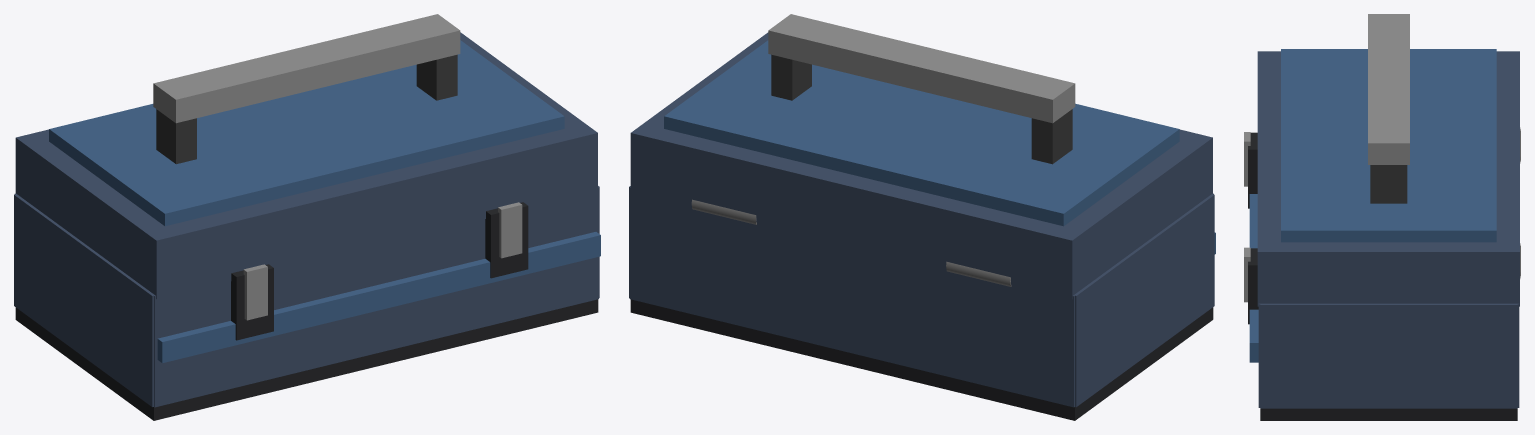
File: CMU3DUtilityRMCToolboxMechanicalCloud.glb
3 renders of one model, left to right at view 1: azimuth 30°, elevation 25°; view 2: azimuth 150°, elevation 25°; view 3: azimuth 270°, elevation 25°, orthographic. The views are drawn at different scales.
Visible parts, largest first — view 1: independent closed lid, raised lid field, structural end wall -1, structural side wall -1, open grip silver crossbar, source colored front band, structural bottom pan, front latch socket 0.17, front latch socket -0.17, carry handle leg -0.174, carry handle leg 0.174, front metal latch plate -0.17 (+1 smaller); view 2: structural end wall 1, independent closed lid, raised lid field, structural side wall -1, open grip silver crossbar, structural bottom pan, carry handle leg -0.174, carry handle leg 0.174, back hinge 0.17, back hinge -0.17; view 3: raised lid field, structural side wall 1, independent closed lid, open grip silver crossbar, structural bottom pan, carry handle leg 0.174, source colored front band, front latch socket 0.17, front latch socket -0.17, structural end wall -1, structural end wall 1, front metal latch plate 0.17.
Boxes of the visible parts, x1,y1,x2,y2 form: independent closed lid: [15, 32, 597, 299]; raised lid field: [49, 40, 564, 226]; structural end wall -1: [141, 187, 598, 407]; structural side wall -1: [14, 194, 154, 406]; open grip silver crossbar: [153, 14, 460, 123]; source colored front band: [157, 232, 600, 363]; structural bottom pan: [15, 299, 598, 420]; front latch socket 0.17: [485, 202, 528, 278]; front latch socket -0.17: [231, 264, 273, 340]; carry handle leg -0.174: [156, 109, 196, 164]; carry handle leg 0.174: [416, 54, 457, 100]; front metal latch plate -0.17: [243, 264, 267, 320]; structural end wall 1: [629, 187, 1087, 407]; independent closed lid: [630, 32, 1212, 299]; raised lid field: [664, 40, 1179, 226]; structural side wall -1: [1074, 194, 1214, 407]; open grip silver crossbar: [768, 14, 1075, 123]; structural bottom pan: [630, 299, 1213, 420]; carry handle leg -0.174: [1031, 109, 1072, 164]; carry handle leg 0.174: [771, 54, 811, 100]; back hinge 0.17: [691, 199, 756, 224]; back hinge -0.17: [946, 261, 1011, 286]; raised lid field: [1281, 49, 1496, 242]; structural side wall 1: [1260, 303, 1517, 408]; independent closed lid: [1257, 51, 1519, 306]; open grip silver crossbar: [1368, 14, 1409, 164]; structural bottom pan: [1260, 408, 1517, 420]; carry handle leg 0.174: [1370, 165, 1407, 203]; source colored front band: [1249, 194, 1258, 362]; front latch socket 0.17: [1248, 248, 1258, 324]; front latch socket -0.17: [1248, 132, 1257, 208]; structural end wall -1: [1258, 303, 1283, 407]; structural end wall 1: [1494, 303, 1519, 407]; front metal latch plate 0.17: [1244, 247, 1250, 302].
Size of what is drawn, in the model's own units: 0.5978 by 0.331 by 0.344.
